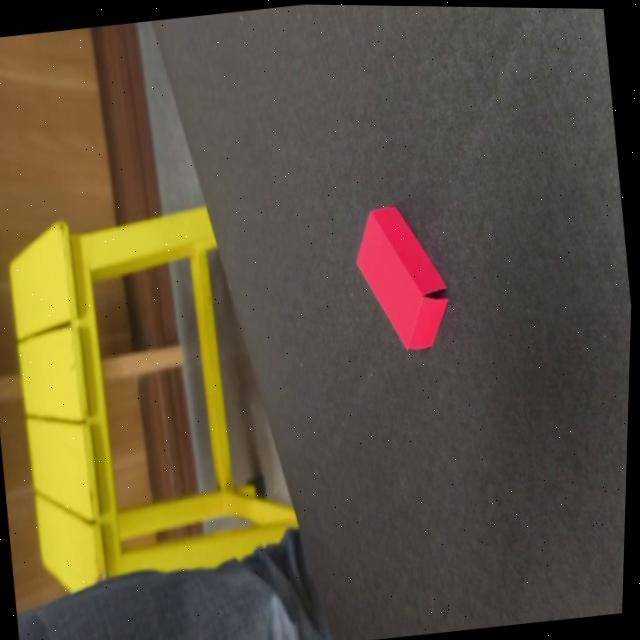red block: (345, 199, 456, 359)
